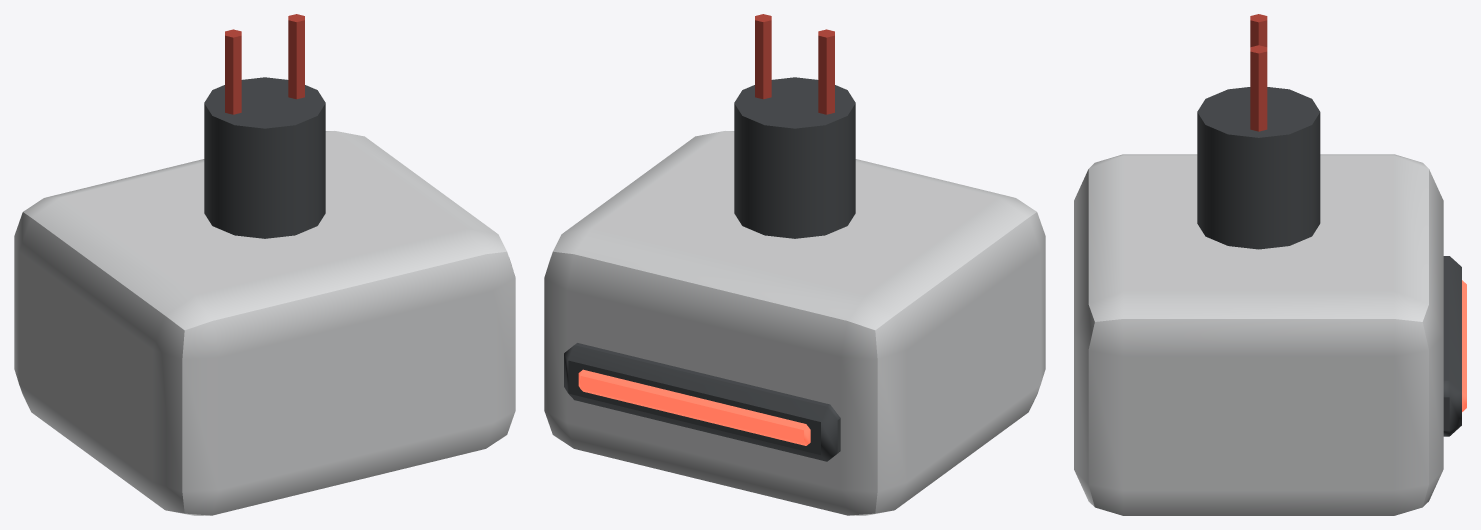
Rendered from sorter_head.glb.
3 renders of one model, left to right at view 1: azimuth 30°, elevation 25°; view 2: azimuth 150°, elevation 25°; view 3: azimuth 270°, elevation 25°, orthographic.
Visible parts, largest first — view 1: sorter_head; view 2: sorter_head; view 3: sorter_head.
Boxes of the visible parts, <box> form: sorter_head: <box>14,14,515,515</box>; sorter_head: <box>544,14,1045,515</box>; sorter_head: <box>1074,14,1466,515</box>.
Bounding box in the file's own units: 0.34 × 0.37 × 0.319.
